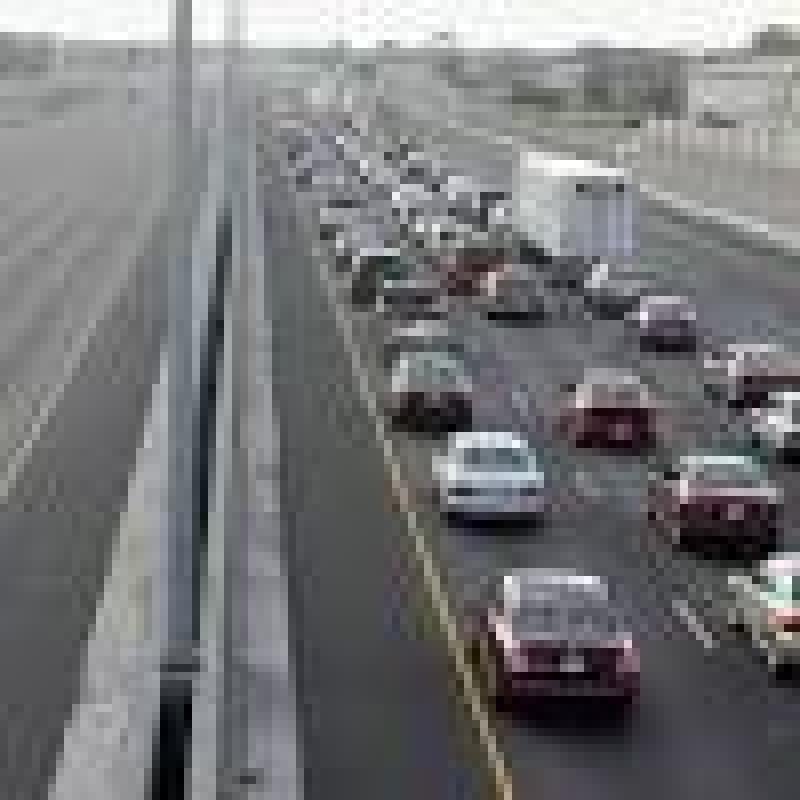car: (468, 553, 665, 747), (427, 419, 546, 561), (644, 447, 782, 560), (561, 367, 660, 478)
